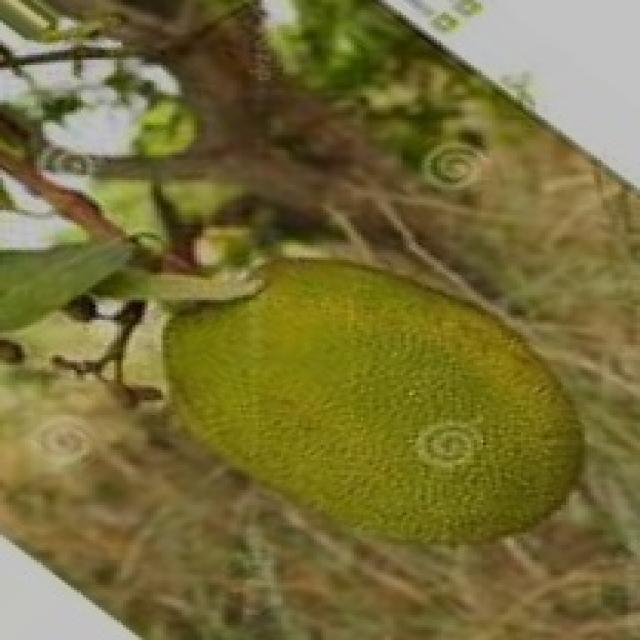Fruit: (218, 228, 616, 578)
